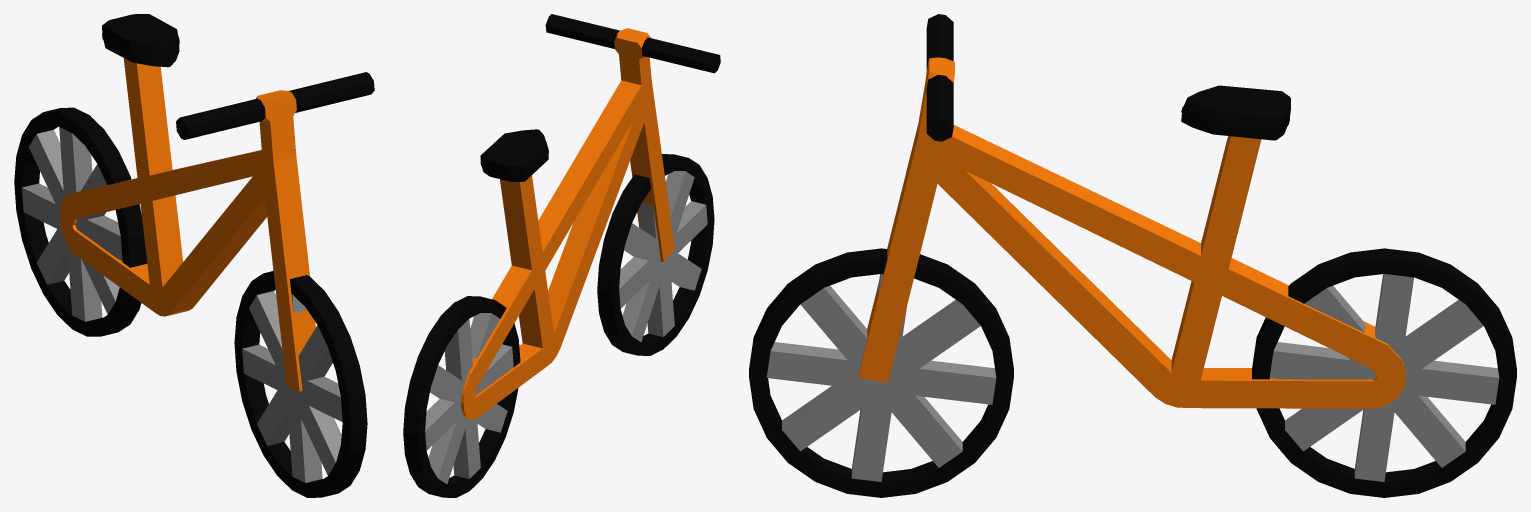
The model's file is bike.fbx.
3 renders of one model, left to right at view 1: azimuth 30°, elevation 25°; view 2: azimuth 150°, elevation 25°; view 3: azimuth 270°, elevation 25°, orthographic. The views are drawn at different scales.
Parts seen in each view (by area): view 1: Cube.003; view 2: Cube.003; view 3: Cube.003.
Boxes of the visible parts, left/top/right/bottom form: Cube.003: left=14, top=14, right=374, bottom=497; Cube.003: left=403, top=14, right=720, bottom=497; Cube.003: left=749, top=14, right=1516, bottom=497.
Bounding box in the file's own units: 65.12 × 125 × 203.
6 materials, 6 textured.
